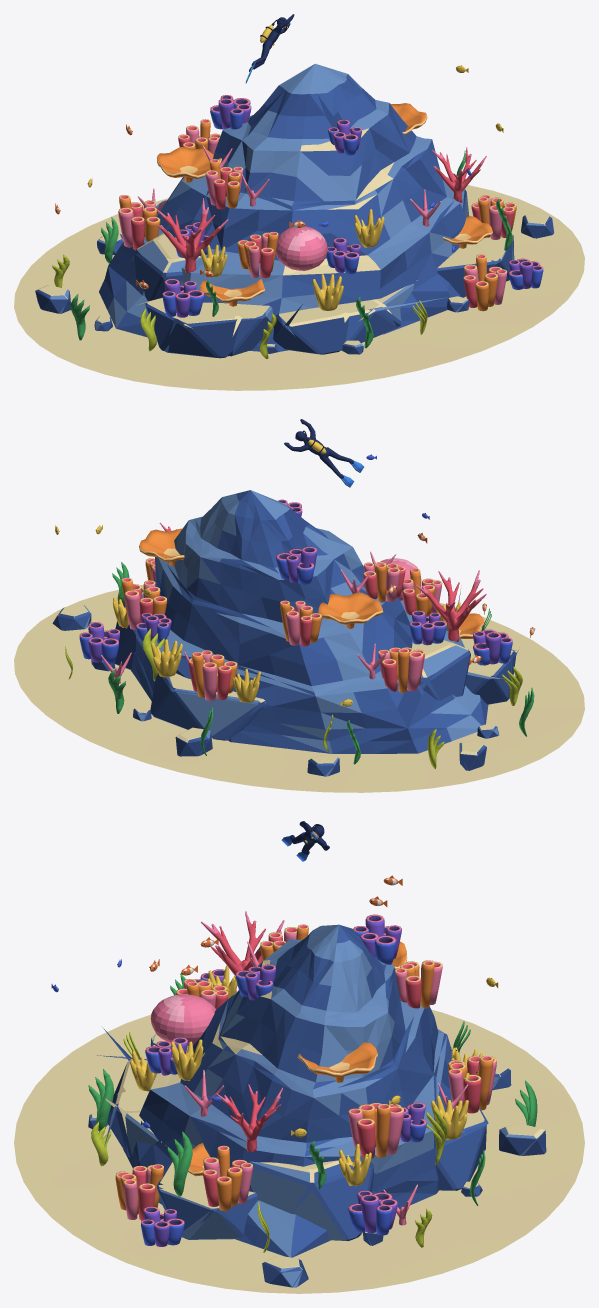
The model's file is reef.glb.
3 views of the same model, one above another, from view 1: azimuth 30°, elevation 25°; view 2: azimuth 150°, elevation 25°; view 3: azimuth 270°, elevation 25° (orthographic). The views are drawn at different scales.
Visible parts, largest first — view 1: Rock_Peak_001, Sand, Rock_Tier_002, Rock_Tier_005, Rock_Tier_001, Rock_Tier_004, Coral_Brain_001, Coral_TubeA_003, Coral_TubeA_005, Coral_BranchA_001, Coral_Plate_001, Coral_TubeA_001 (+18 smaller); view 2: Rock_Peak_001, Sand, Rock_Tier_006, Rock_Tier_001, Coral_TubeA_007, Rock_Tier_002, Coral_TubeA_005, Coral_Plate_001, Coral_TubeA_008, Coral_BranchA_001, Coral_TubeA_006, Coral_TubeA_002 (+15 smaller); view 3: Rock_Peak_001, Sand, Rock_Tier_003, Rock_Tier_004, Rock_Tier_005, Rock_Tier_006, Coral_TubeA_006, Coral_Brain_001, Coral_TubeA_004, Coral_TubeA_007, Coral_TubeA_003, Coral_TubeA_008 (+20 smaller).
Boxes of the visible parts, <box> form: Rock_Peak_001: <box>99,63,465,351</box>; Sand: <box>14,185,584,390</box>; Rock_Tier_002: <box>137,298,272,358</box>; Rock_Tier_005: <box>273,278,447,354</box>; Rock_Tier_001: <box>133,231,206,301</box>; Rock_Tier_004: <box>424,234,514,297</box>; Coral_Brain_001: <box>275,226,327,270</box>; Coral_TubeA_003: <box>463,254,507,311</box>; Coral_TubeA_005: <box>118,195,160,250</box>; Coral_BranchA_001: <box>156,198,228,273</box>; Coral_Plate_001: <box>156,147,221,182</box>; Coral_TubeA_001: <box>237,231,278,278</box>; Rock_Peak_001: <box>131,490,488,753</box>; Sand: <box>14,584,584,792</box>; Rock_Tier_006: <box>150,673,265,740</box>; Rock_Tier_001: <box>412,640,470,700</box>; Coral_TubeA_007: <box>188,650,237,700</box>; Rock_Tier_002: <box>461,639,519,704</box>; Coral_TubeA_005: <box>378,647,424,692</box>; Coral_Plate_001: <box>318,592,383,628</box>; Coral_TubeA_008: <box>280,600,321,646</box>; Coral_BranchA_001: <box>415,570,486,641</box>; Coral_TubeA_006: <box>121,577,166,629</box>; Coral_TubeA_002: <box>363,562,405,602</box>; Rock_Peak_001: <box>123,924,454,1257</box>; Sand: <box>14,1009,584,1293</box>; Rock_Tier_003: <box>248,1159,373,1240</box>; Rock_Tier_004: <box>157,1145,257,1239</box>; Rock_Tier_005: <box>97,1028,161,1157</box>; Rock_Tier_006: <box>435,1108,488,1190</box>; Coral_TubeA_006: <box>348,1103,404,1158</box>; Coral_Brain_001: <box>150,994,216,1045</box>; Coral_TubeA_004: <box>203,1145,252,1211</box>; Coral_TubeA_007: <box>448,1056,496,1113</box>; Coral_TubeA_003: <box>115,1164,163,1220</box>; Coral_TubeA_008: <box>395,960,442,1008</box>.
Size of the model in its own units: 4.5 by 2.24 by 3.6.
1 material, 1 textured.
